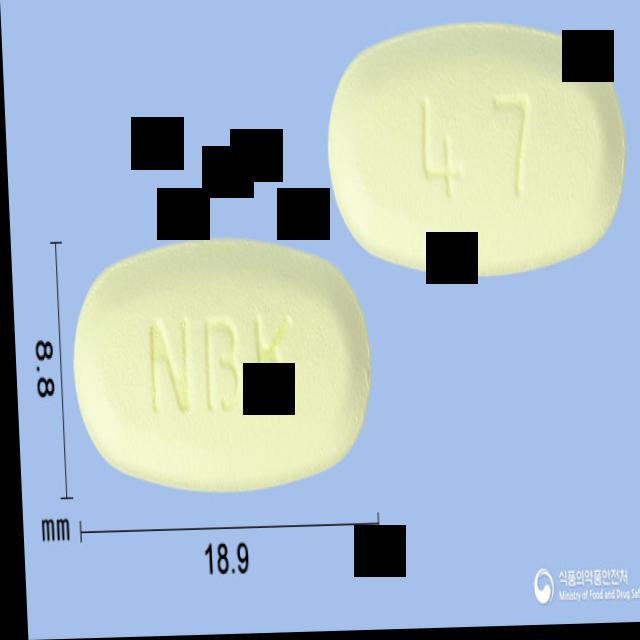Lathrocin-500mg: (65, 233, 370, 500), (323, 20, 629, 276)
